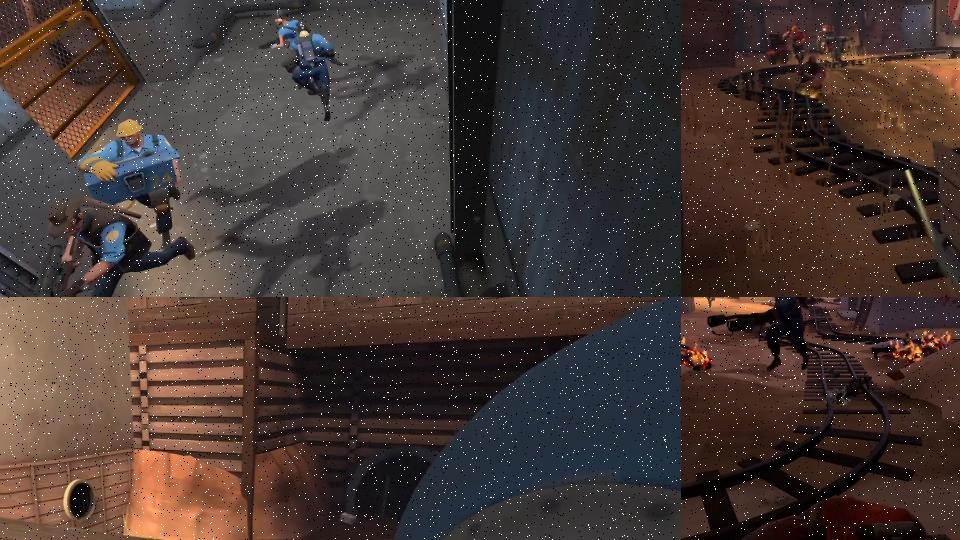Enemy: (15, 188, 201, 297), (73, 115, 187, 256), (681, 489, 960, 540), (713, 297, 842, 373), (278, 17, 344, 125), (258, 7, 316, 76), (793, 54, 827, 101), (781, 25, 809, 64), (702, 297, 716, 308)
